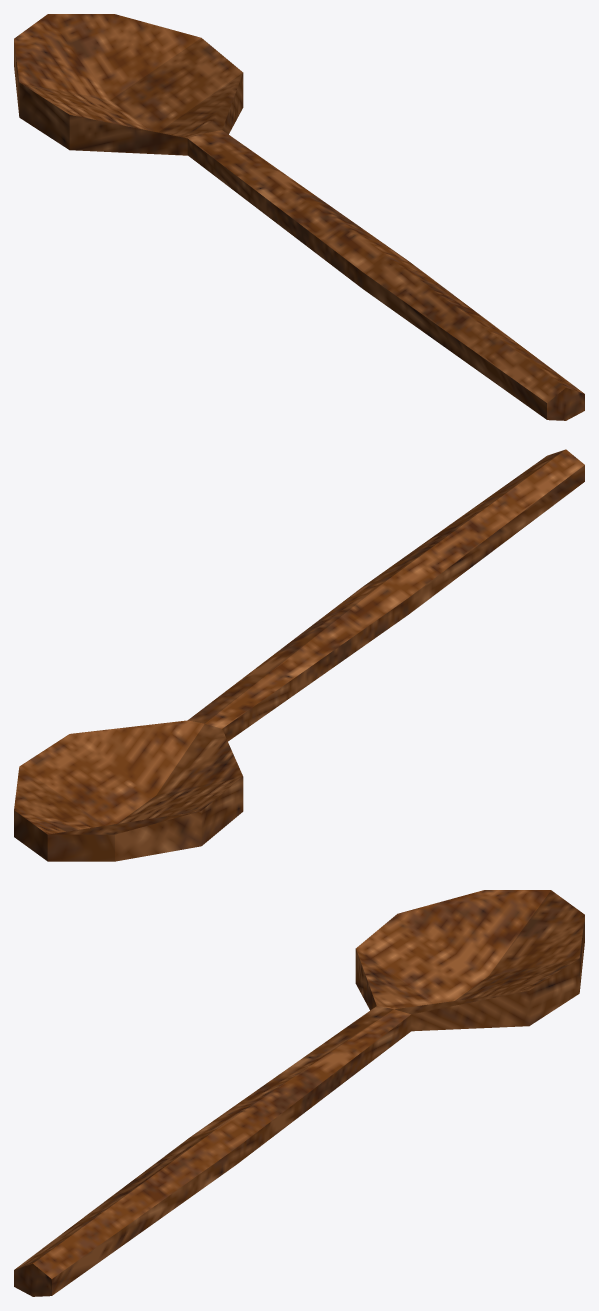
The model's file is SM_Dungeon_Spoon_Wooden_Large.fbx.
3 views of the same model, one above another, from view 1: azimuth 30°, elevation 25°; view 2: azimuth 150°, elevation 25°; view 3: azimuth 330°, elevation 25° (orthographic).
Visible parts, largest first — view 1: Cube.001; view 2: Cube.001; view 3: Cube.001.
Boxes of the visible parts, x1,y1,x2,y2 form: Cube.001: (14,14,584,420); Cube.001: (14,449,584,861); Cube.001: (14,890,584,1296).
Size of the model in its own units: 13.85 by 4.48 by 68.21.
